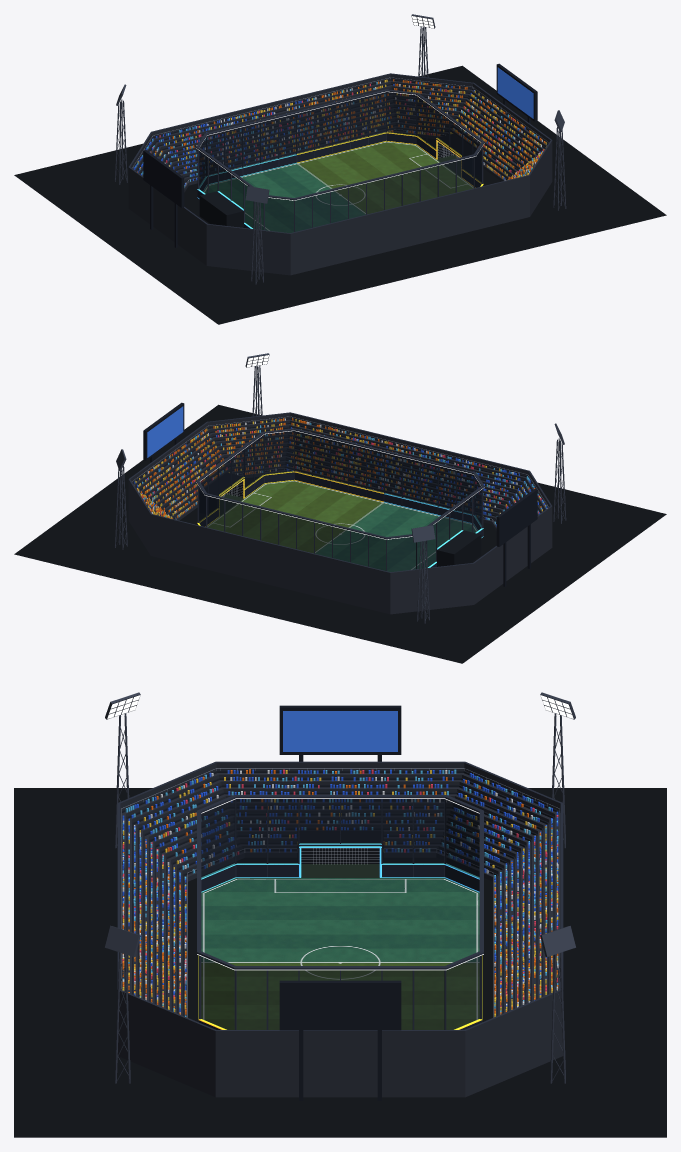
The model's file is arena.glb.
3 views of the same model, one above another, from view 1: azimuth 30°, elevation 25°; view 2: azimuth 150°, elevation 25°; view 3: azimuth 270°, elevation 25° (orthographic). The views are drawn at different scales.
Visible parts, largest first — view 1: stands, glass, field, towers, frame, walls, goal_blue, goal_orange; view 2: stands, glass, field, towers, frame, walls, goal_blue, goal_orange; view 3: stands, field, glass, towers, frame, walls, goal_blue, goal_floor.
Part boxes in pixels (x1,y1,x2,y2): stands: [14, 65, 666, 324]; glass: [199, 92, 481, 232]; field: [203, 141, 473, 232]; towers: [114, 14, 566, 284]; frame: [196, 89, 484, 232]; walls: [197, 132, 483, 228]; goal_blue: [199, 191, 243, 227]; goal_orange: [436, 134, 480, 174]; stands: [14, 404, 666, 663]; glass: [199, 431, 481, 571]; field: [207, 480, 477, 571]; towers: [114, 353, 566, 623]; frame: [196, 428, 484, 571]; walls: [197, 471, 483, 567]; goal_blue: [437, 530, 481, 566]; goal_orange: [200, 473, 244, 513]; stands: [14, 761, 666, 1137]; field: [201, 878, 479, 1029]; glass: [201, 799, 479, 1029]; towers: [105, 692, 575, 1100]; frame: [197, 795, 483, 1029]; walls: [198, 843, 482, 1029]; goal_blue: [297, 830, 383, 877]; goal_floor: [301, 864, 379, 877].
Size of the model in its own units: 190 by 37.77 by 150.
Materials: 26 (1 with a texture image).
